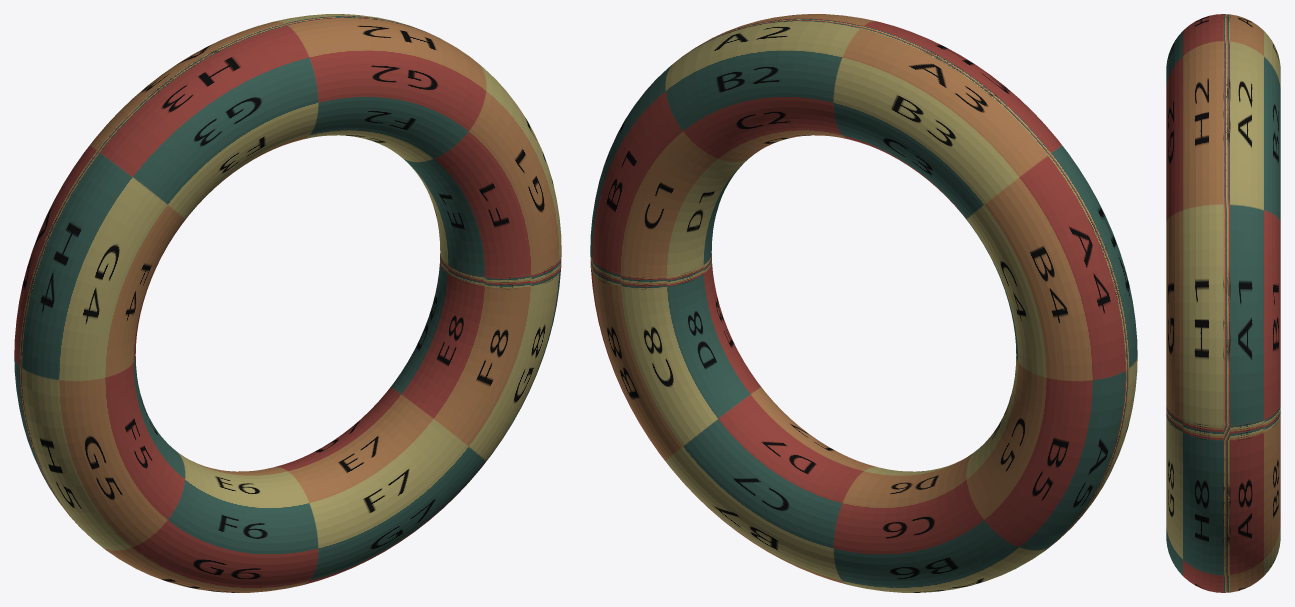
The model's file is texture_torus_R4_r3.glb.
3 renders of one model, left to right at view 1: azimuth 30°, elevation 25°; view 2: azimuth 150°, elevation 25°; view 3: azimuth 270°, elevation 25°, orthographic. The views are drawn at different scales.
Visible parts, largest first — view 1: world; view 2: world; view 3: world.
Part boxes in pixels (x1,y1,x2,y2): world: (14, 14, 561, 592); world: (590, 14, 1137, 592); world: (1166, 14, 1280, 592).
Bounding box in the file's own units: 23.56 × 23.56 × 4.66.
Materials: 1 (1 with a texture image).
